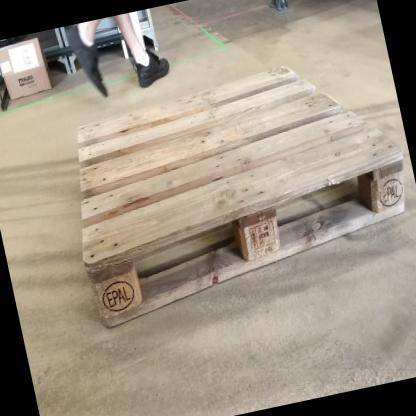BoxFace: (70, 54, 412, 337)
